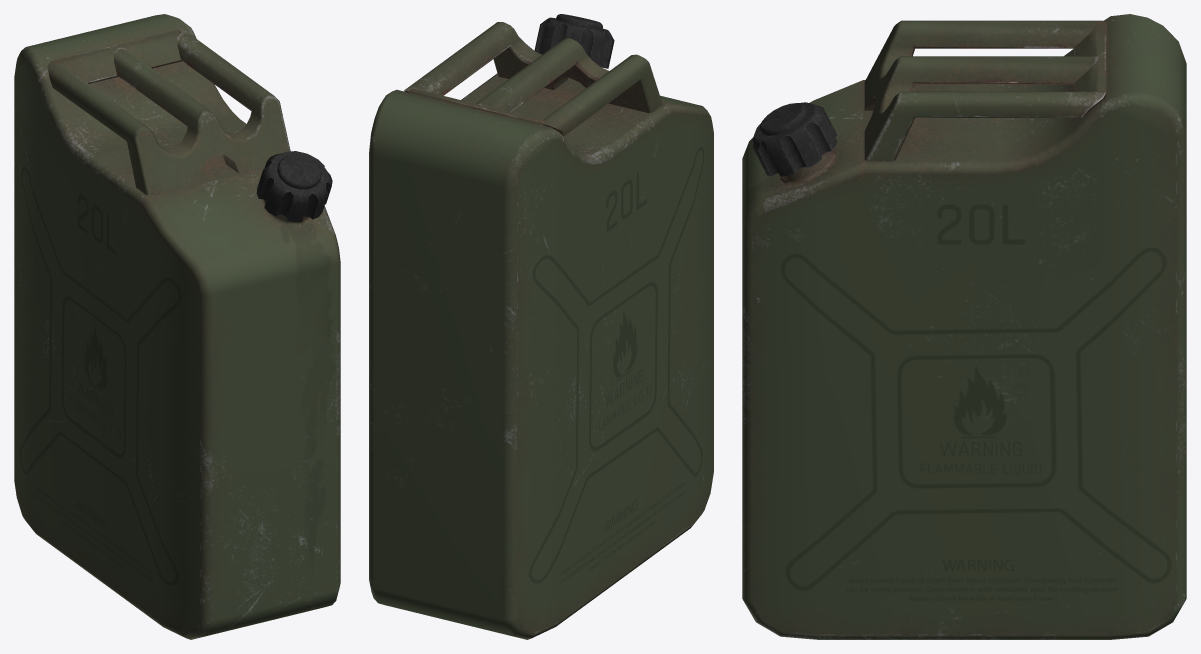
The model's file is fuel_can.glb.
3 views of the same model, side by side, from view 1: azimuth 30°, elevation 25°; view 2: azimuth 150°, elevation 25°; view 3: azimuth 270°, elevation 25° (orthographic). The views are drawn at different scales.
Visible parts, largest first — view 1: fuel_can; view 2: fuel_can; view 3: fuel_can.
Part boxes in pixels (x1,y1,x2,y2): fuel_can: [14, 14, 340, 639]; fuel_can: [369, 14, 713, 639]; fuel_can: [742, 14, 1186, 639].
Size of the model in its own units: 0.1772 by 0.5027 by 0.3706.
Materials: 1 (1 with a texture image).
